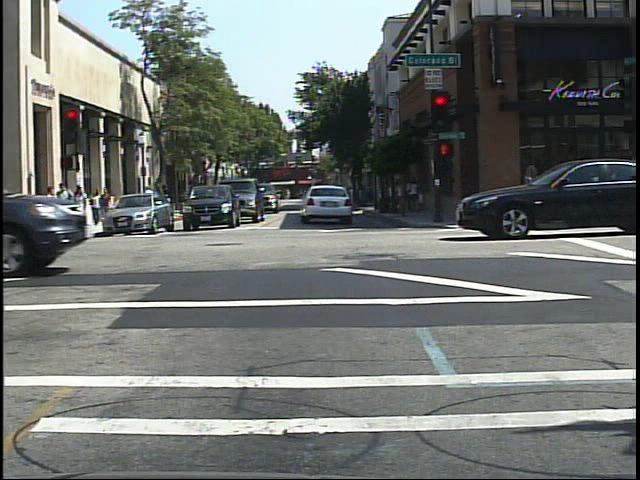person: (156, 180, 174, 216), (140, 183, 158, 213), (91, 189, 104, 228)
